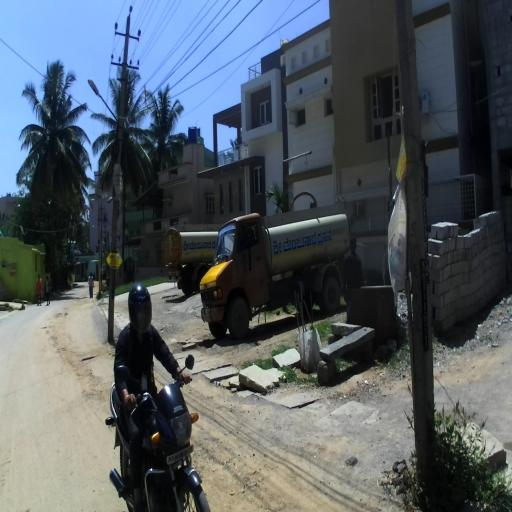street_light_0: (88, 79, 122, 147), (84, 204, 100, 226), (98, 197, 113, 217), (92, 225, 100, 234)
